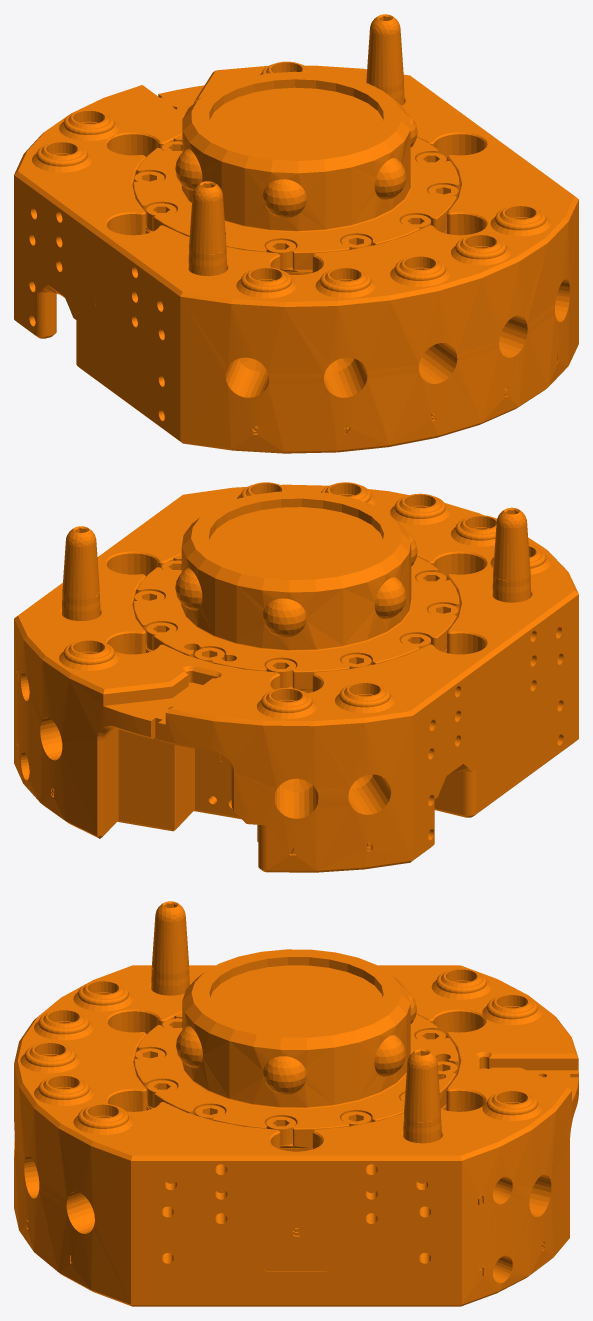
The picture shows the model from 3 angles, top to bottom: view 1: azimuth 30°, elevation 25°; view 2: azimuth 150°, elevation 25°; view 3: azimuth 270°, elevation 25°; orthographic projection.
Visible parts, largest first — view 1: node0; view 2: node0; view 3: node0.
Boxes of the visible parts, <box> form: node0: <box>14,14,578,453</box>; node0: <box>14,482,578,872</box>; node0: <box>14,901,578,1306</box>.
Bounding box in the file's own units: 0.1524 × 0.1879 × 0.0855.
